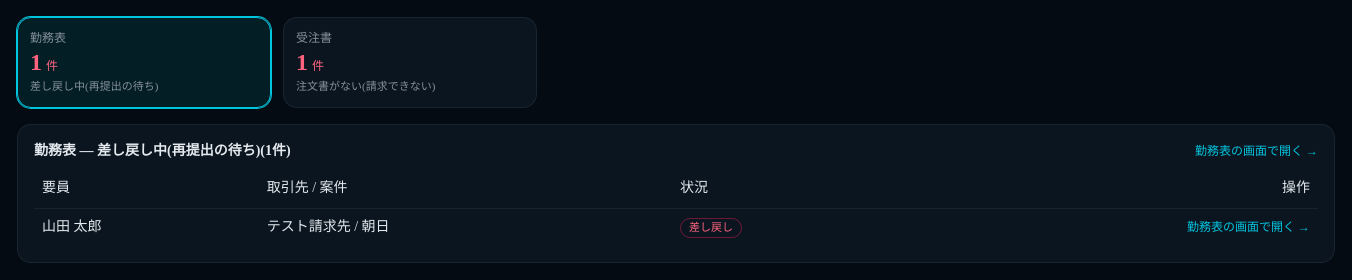
Test case: ホーム › カードを選ぶと、同じ画面の下の一覧が切り替わる(初期は先頭のカード)
This screenshot has width=1352, height=280.
Expected: the text "山田 太郎" is shown, [34,208,259,246]
Click the button "受注書 1件 注文書がない(請求できない)".
click(410, 62)  # box [283,17,537,108]
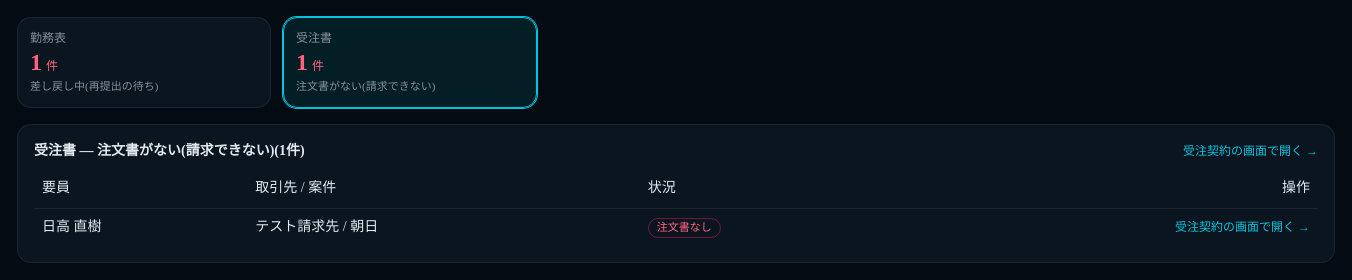
Now the text "日高 直樹" is shown, box [34,208,247,246]
Now the text "山田 太郎" is gone
